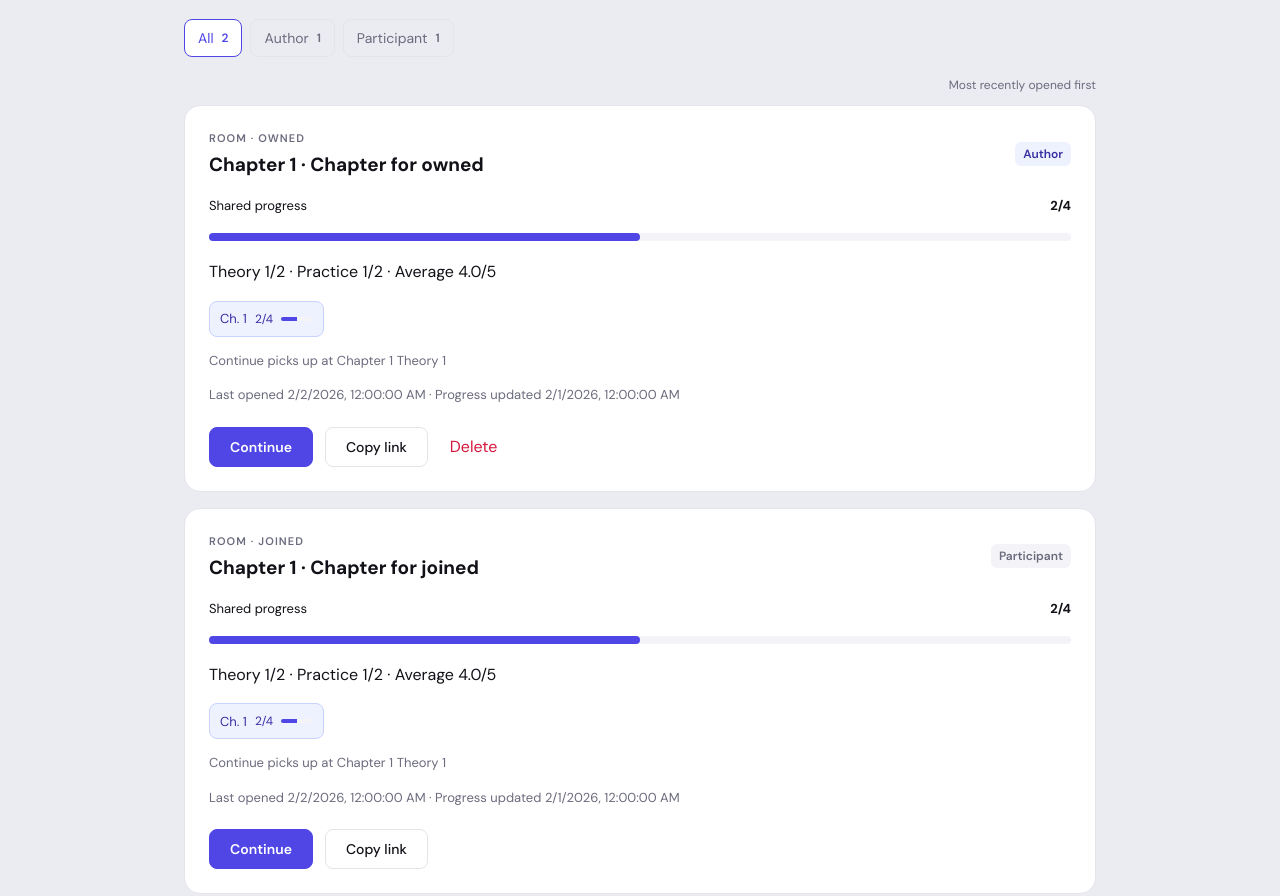
Test: confirms deletion for everyone and removes a card already deleted elsewhere
The width and height of the screenshot is (1280, 896).
(page scrolled)
Click the button "Delete".
click(474, 447)  # box x1=440 y1=426 x2=507 y2=467
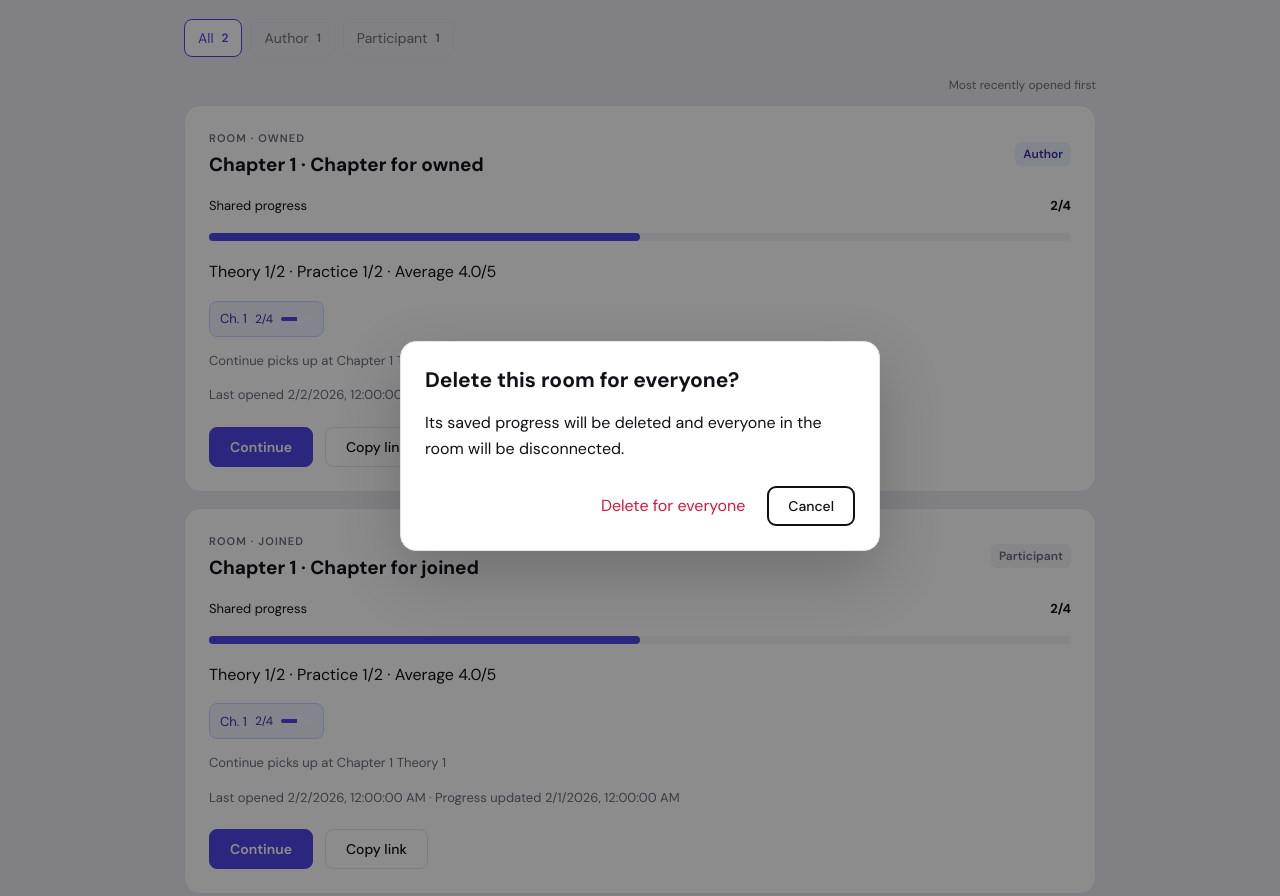
Click the button "Cancel".
click(811, 506)  # box x1=767 y1=486 x2=855 y2=526
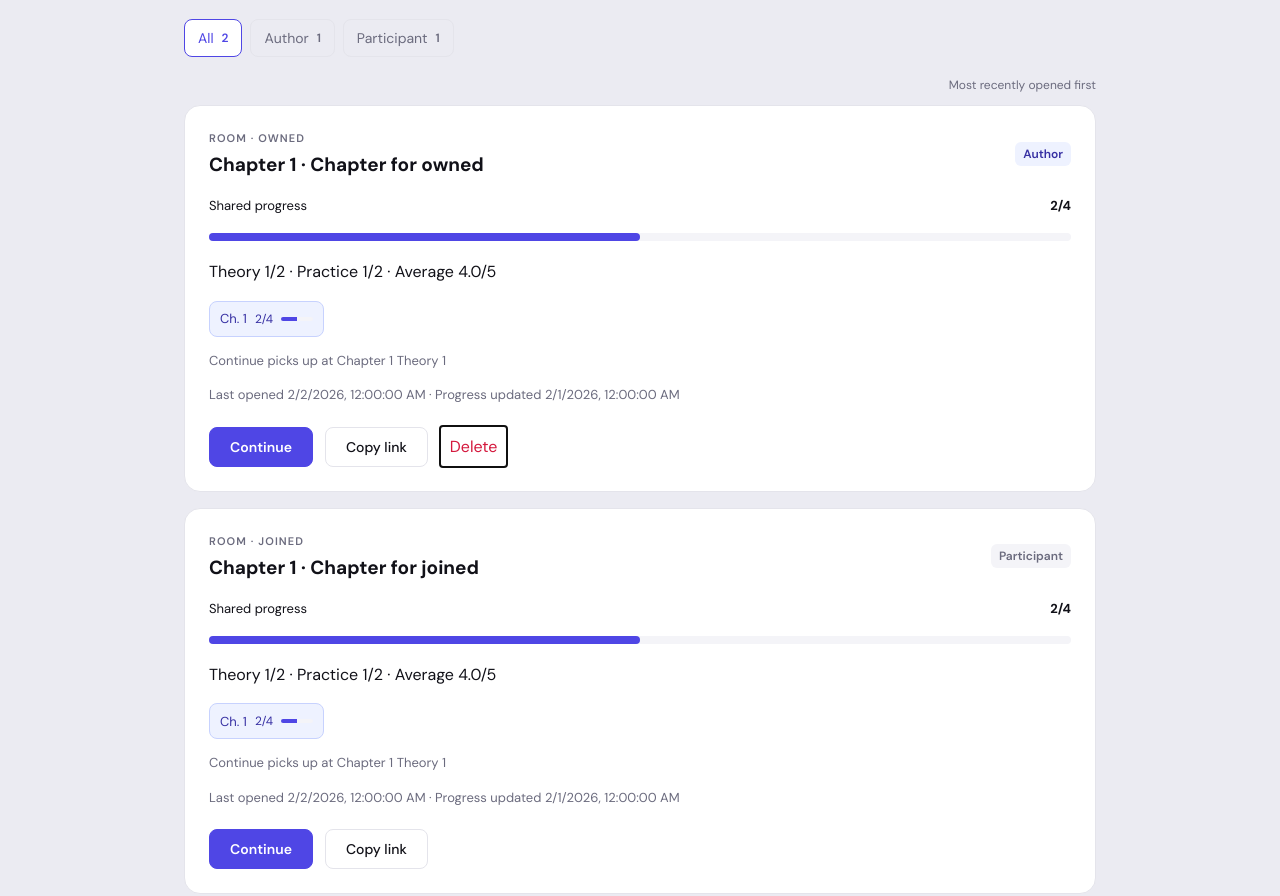
Click the button "Delete".
click(474, 447)  # box x1=440 y1=426 x2=507 y2=467
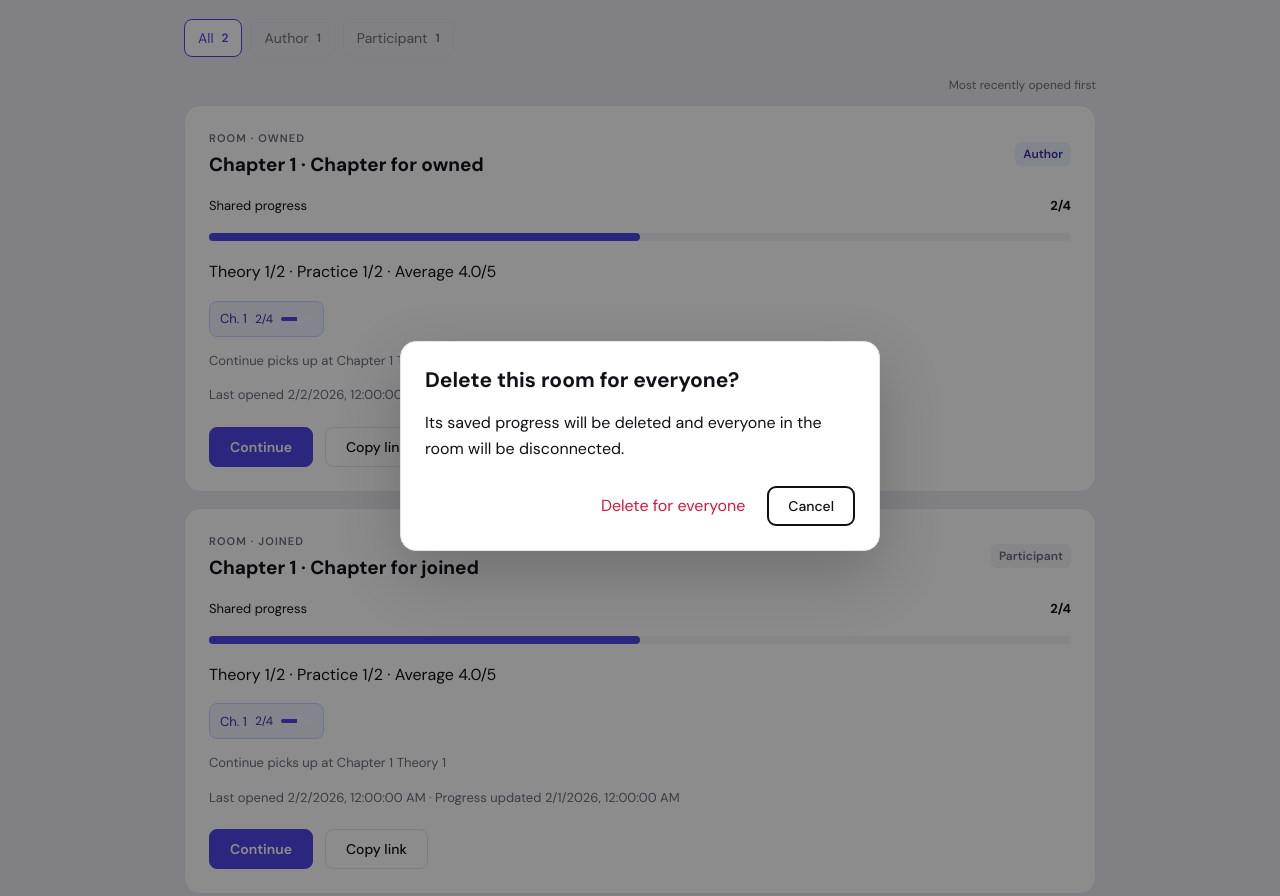
Click the button "Delete for everyone".
click(673, 506)  # box x1=591 y1=485 x2=755 y2=526
(page scrolled)
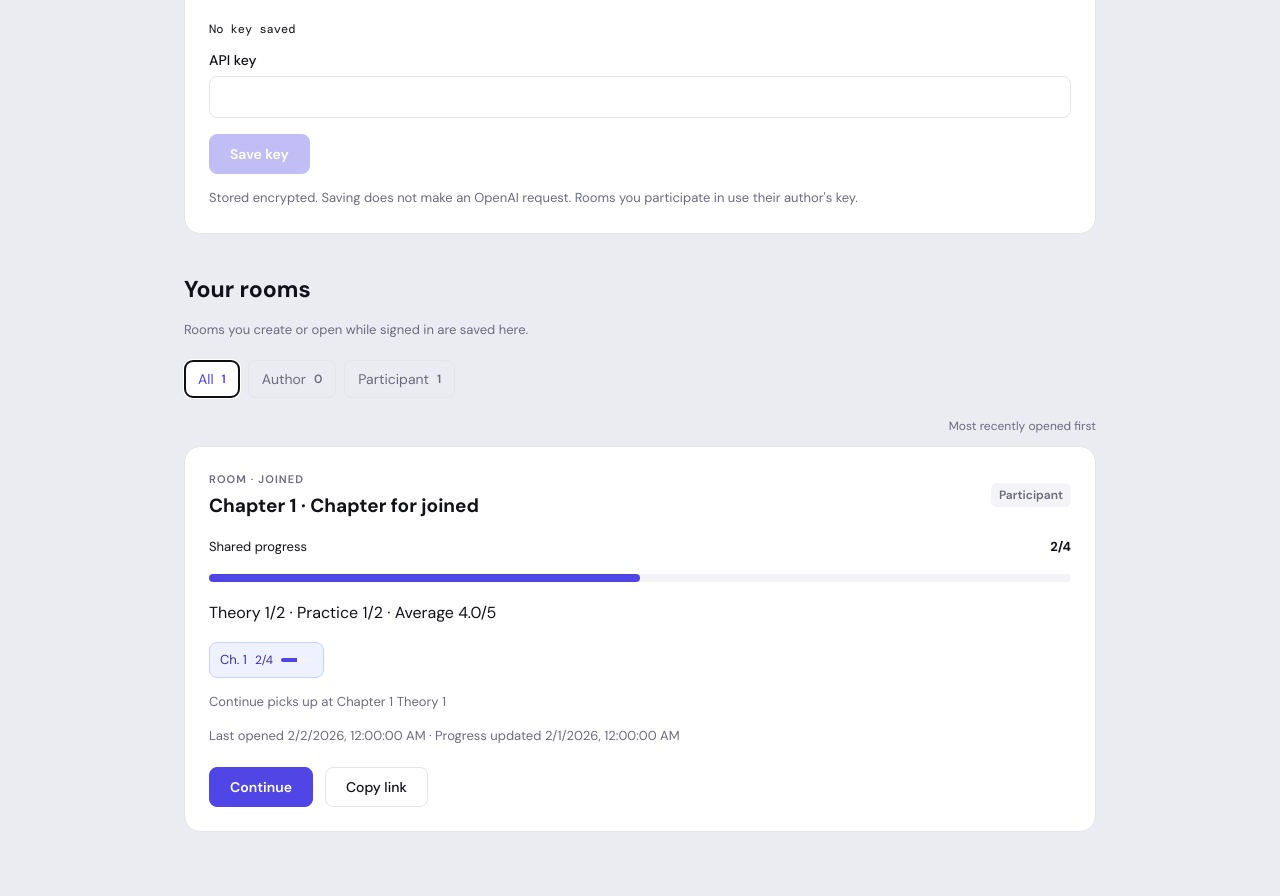
Check: the heading "Chapter 1 · Chapter for owned" is gone
